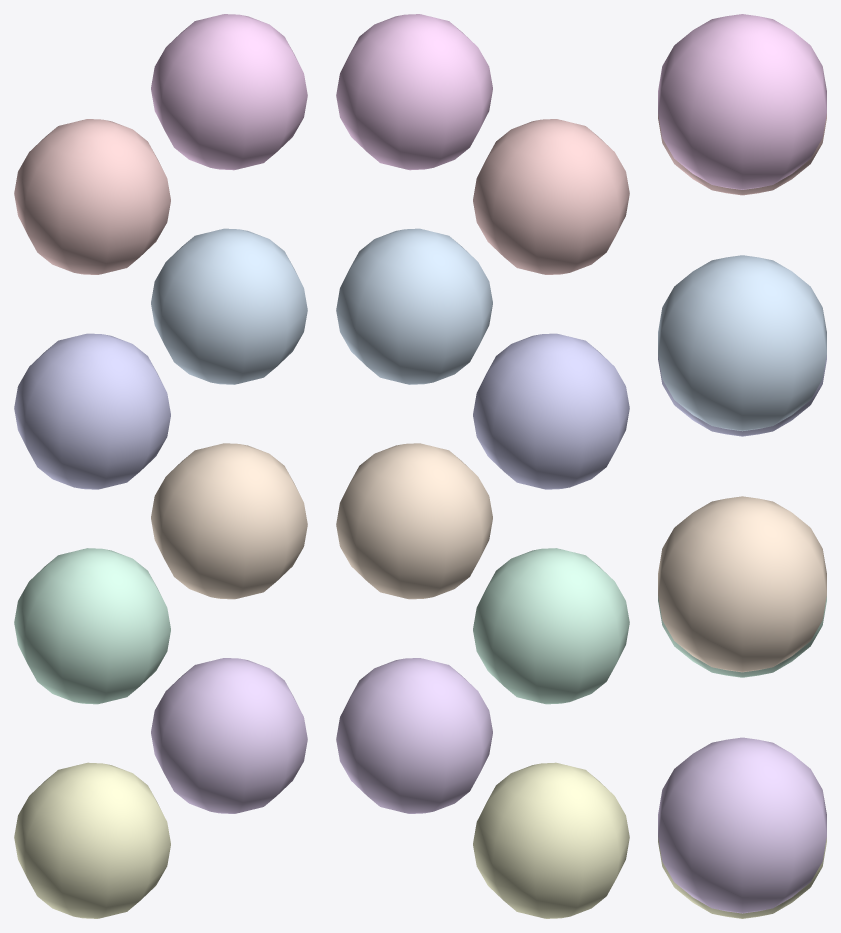
Rendered from rattletowerball.fbx.
3 views of the same model, side by side, from view 1: azimuth 30°, elevation 25°; view 2: azimuth 150°, elevation 25°; view 3: azimuth 270°, elevation 25° (orthographic). The views are drawn at different scales.
Parts seen in each view (by area): view 1: Ball03, Ball06, Ball04, Ball05, Ball01, Ball08, Ball02, Ball07; view 2: Ball03, Ball06, Ball04, Ball05, Ball01, Ball08, Ball02, Ball07; view 3: Ball02, Ball04, Ball06, Ball08, Ball01, Ball03, Ball05, Ball07.
Part boxes in pixels (box(x1,y1,x2,y2)): Ball03: box(14, 548, 170, 704); Ball06: box(151, 228, 307, 384); Ball04: box(151, 443, 307, 599); Ball05: box(14, 333, 170, 489); Ball01: box(14, 762, 170, 918); Ball08: box(151, 14, 307, 170); Ball02: box(151, 658, 307, 813); Ball07: box(14, 119, 170, 274); Ball03: box(473, 548, 629, 704); Ball06: box(336, 228, 492, 384); Ball04: box(336, 443, 492, 599); Ball05: box(473, 333, 629, 489); Ball01: box(473, 762, 629, 918); Ball08: box(336, 14, 492, 170); Ball02: box(336, 658, 492, 813); Ball07: box(473, 119, 629, 274); Ball02: box(658, 737, 826, 913); Ball04: box(658, 496, 826, 672); Ball06: box(658, 255, 826, 431); Ball08: box(658, 14, 826, 189); Ball01: box(658, 837, 826, 918); Ball03: box(658, 596, 826, 677); Ball05: box(658, 355, 826, 436); Ball07: box(658, 114, 826, 195).
Bounding box in the file's own units: 4 × 12 × 1.9.
1 material, 1 textured.
